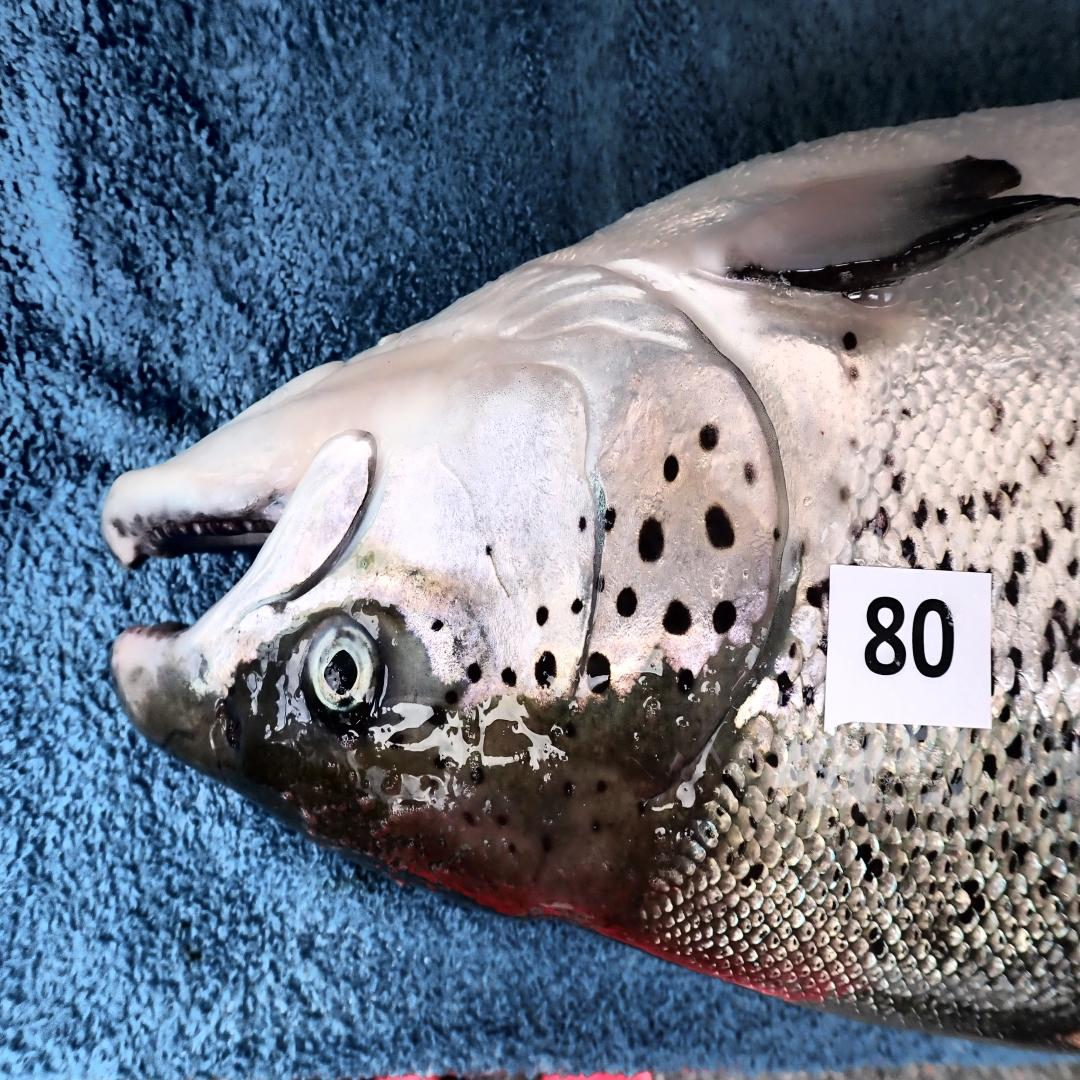spot: (705, 506, 734, 549), (663, 596, 692, 636), (638, 518, 664, 562), (586, 652, 611, 693), (535, 650, 557, 690), (713, 602, 737, 633), (698, 422, 719, 452), (616, 588, 637, 616), (677, 668, 695, 693), (662, 455, 679, 481), (501, 667, 517, 687), (466, 664, 482, 683), (744, 462, 757, 485), (605, 506, 616, 532), (536, 606, 548, 627), (453, 639, 466, 656), (571, 599, 583, 614), (432, 619, 443, 633), (578, 518, 587, 532), (598, 576, 605, 593), (485, 545, 492, 556), (774, 529, 780, 540)
